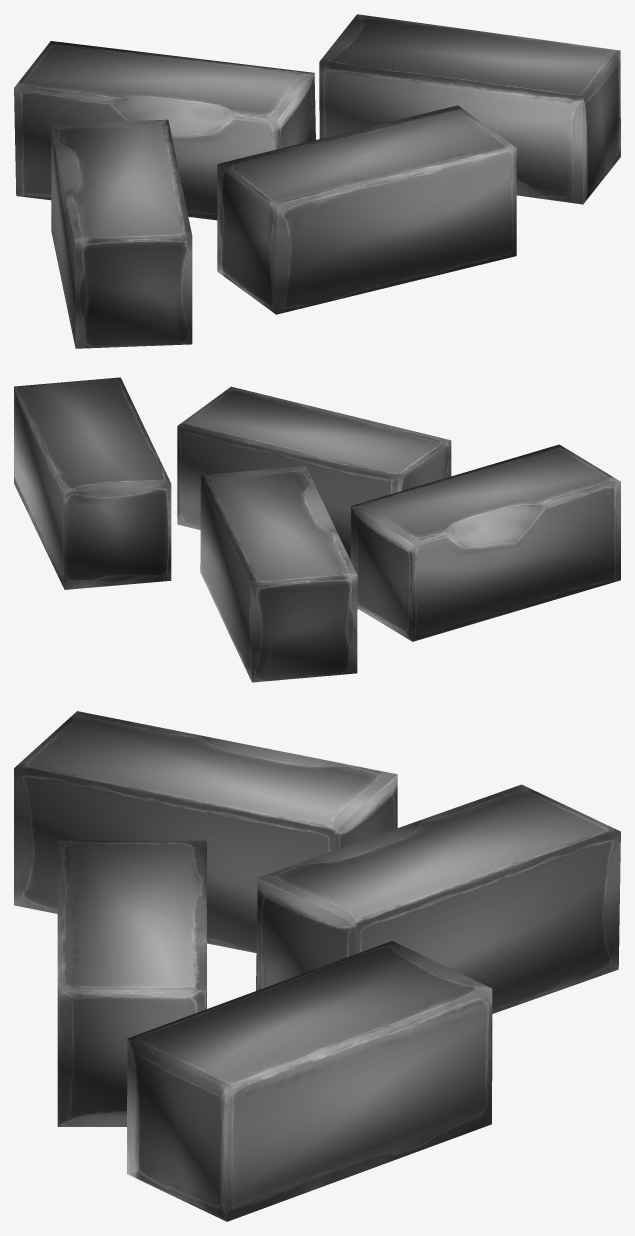
Rendered from brick_pile_1.fbx.
3 renders of one model, top to bottom at view 1: azimuth 30°, elevation 25°; view 2: azimuth 150°, elevation 25°; view 3: azimuth 270°, elevation 25°, orthographic. The views are drawn at different scales.
Visible parts, largest first — view 1: brick_pile_1; view 2: brick_pile_1; view 3: brick_pile_1.
Part boxes in pixels (box(x1,y1,x2,y2)): brick_pile_1: box(14, 14, 620, 348); brick_pile_1: box(14, 377, 620, 682); brick_pile_1: box(14, 711, 620, 1221).
Bounding box in the file's own units: 2.55 × 0.4751 × 1.74.
